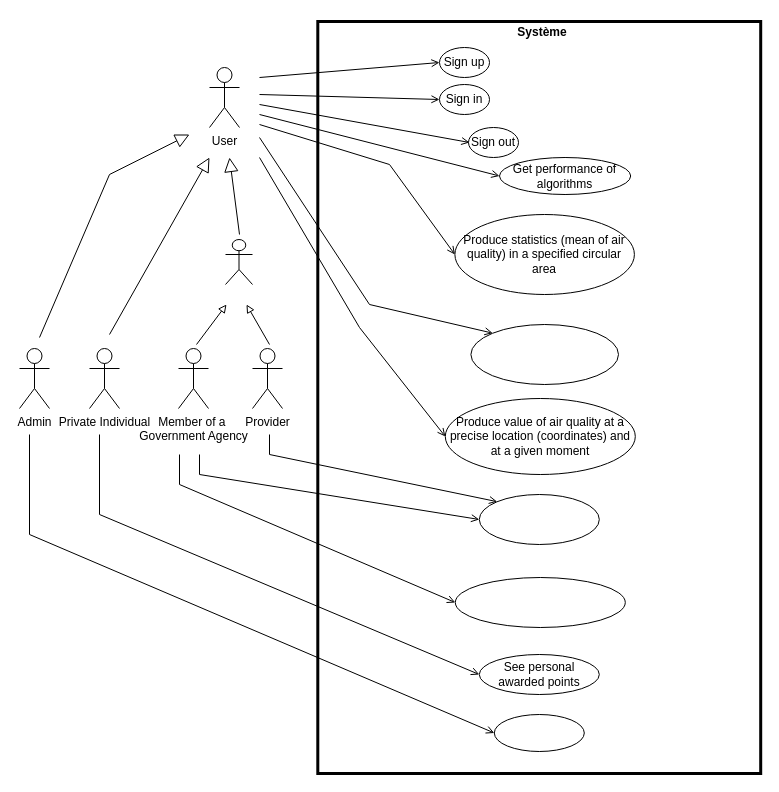
Some shapes in this 779 by 792 pixel diagram are drawn without their labels. Here are the shapes that lost their labels. From the top down, the centre of each, then its label:
At pixel 238 261: "Super User".
At pixel 544 354: "Select one sensor and Score and Rank similar sensors".
At pixel 538 519: "Observe impacts of Air Cleaners".
At pixel 539 602: "Analyse data provided by private individuals' sensors".
At pixel 538 733: "Manage user rights".
